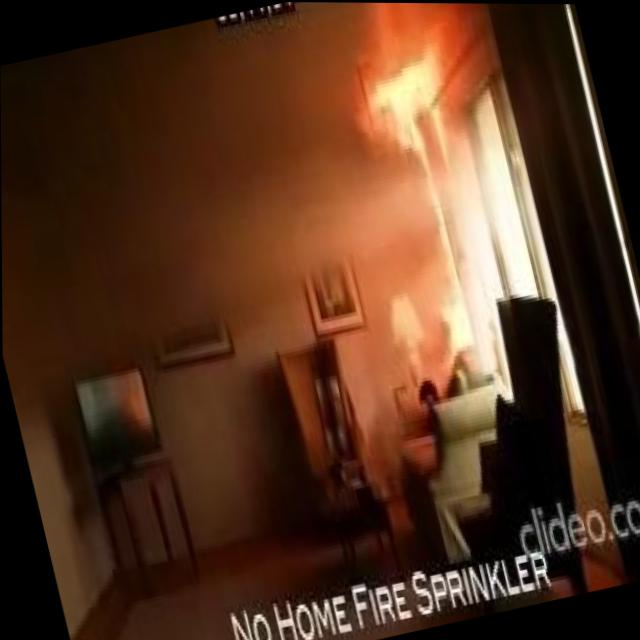fire: (366, 66, 475, 353), (357, 46, 442, 123)
